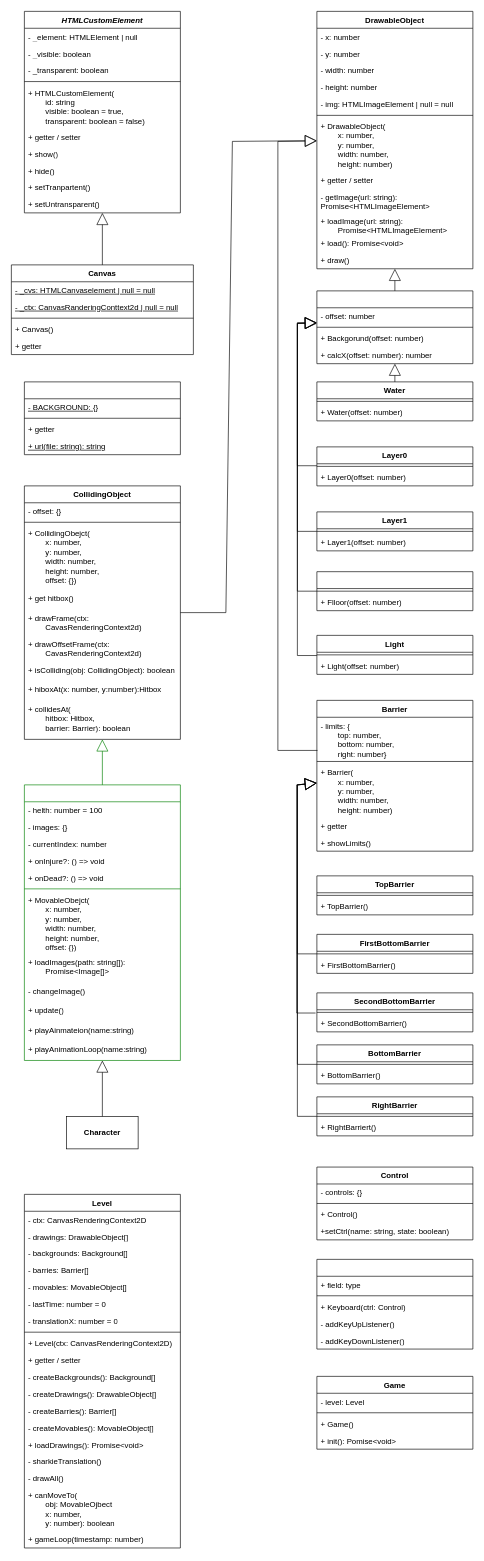
The diagram is 484 pixels wide and 1561 high, and some of its shapes have lost their labels. Each missing label, with the box of its shape:
Background: (316, 290, 473, 364)
Floor: (316, 571, 473, 611)
ImgHelper: (24, 381, 180, 455)
Keybord: (316, 1259, 473, 1349)
MovableObject: (24, 784, 180, 1060)
